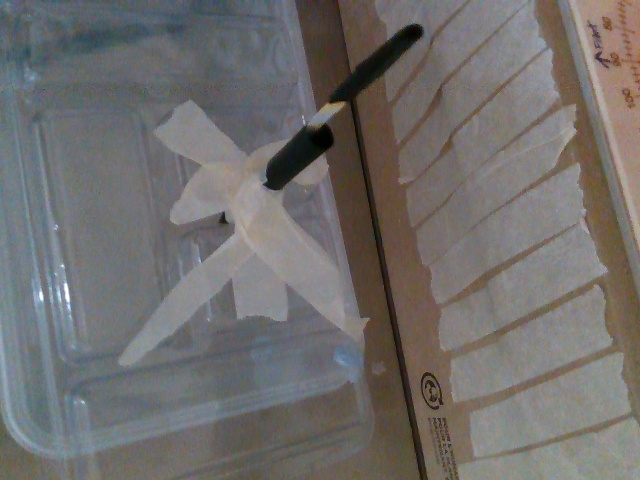test_strip: (305, 22, 423, 132)
